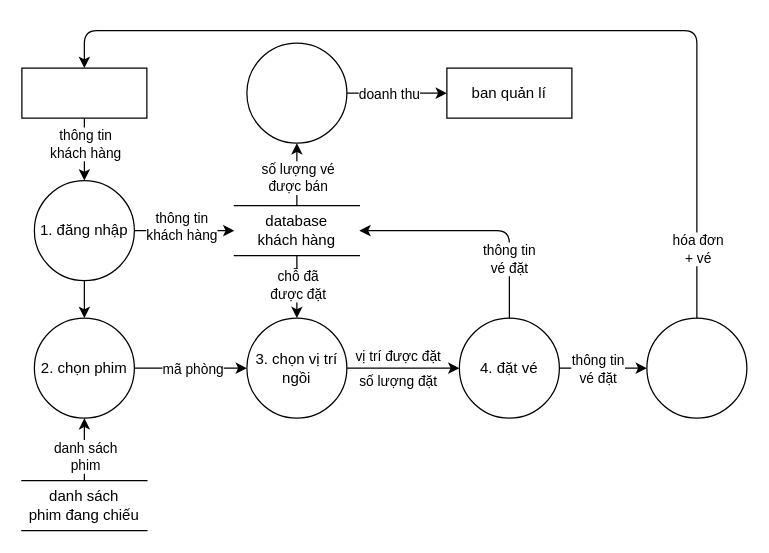
The diagram is 769 pixels wide and 553 high, and some of its shapes have lost their labels. The shapes that lost their labels are listed below. From the top down, each one's centre as x and y in pixels, then its label:
point 84,92: khách hàng
point 296,92: 6. báo cáo
point 696,367: 5. thanh toán
